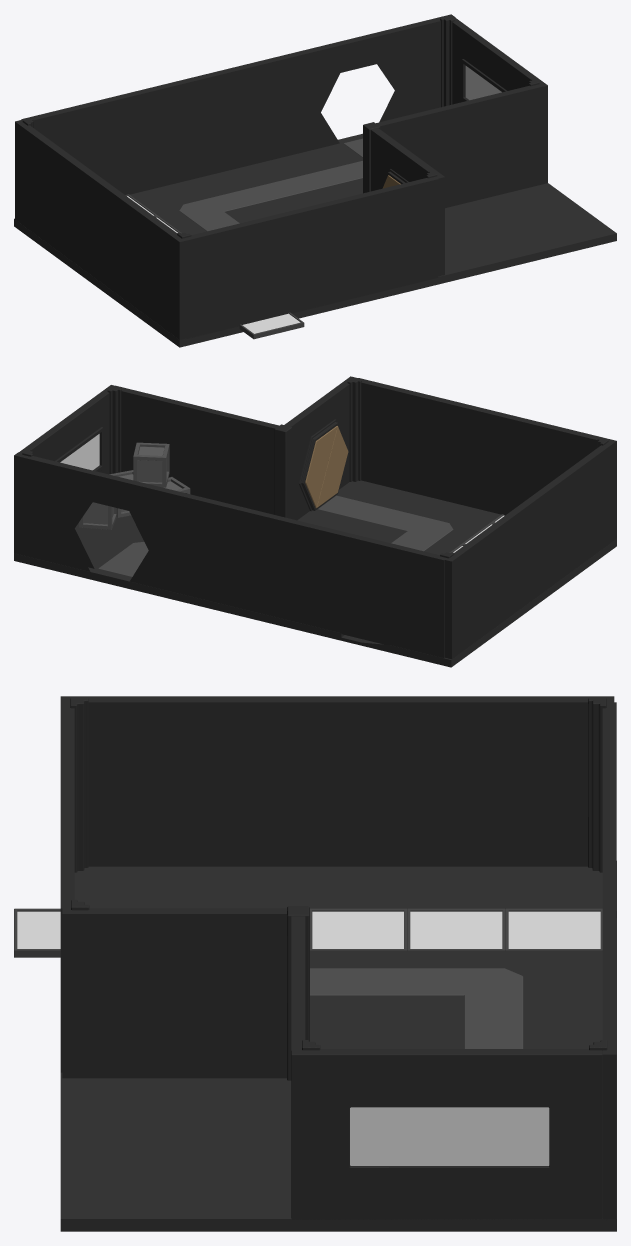
Rendered from level01.fbx.
The picture shows the model from 3 angles, top to bottom: view 1: azimuth 30°, elevation 25°; view 2: azimuth 150°, elevation 25°; view 3: azimuth 270°, elevation 25°; orthographic projection. The views are drawn at different scales.
Visible parts, largest first — view 1: Cube.005, Cube.006, Cube, Cube.007, Cube.001, Cube.017, Cube.004, Cube.002, Cube.010, Cube.012, Cube.022, Cube.003; view 2: Cube.005, Cube.006, Cube.007, Cube, Cube.001, Cube.017, Cube.002, Cube.004, Cylinder.001, Cube.003, Cube.021, Cube.014 (+5 smaller); view 3: Cube.007, Cube, Cube.004, Cube.002, Cube.010, Cube.022, Cube.017, Cube.005, Cube.006, Cube.016, Cube.015, Cube.001 (+1 smaller).
Part boxes in pixels (x1,y1,x2,y2): Cube.005: (21,14,455,194); Cube.006: (184,177,438,338); Cube: (14,133,616,347); Cube.007: (15,120,186,339); Cube.001: (376,84,543,208); Cube.017: (179,138,362,231); Cube.004: (452,17,547,184); Cube.002: (371,128,444,276); Cube.010: (125,194,304,339); Cube.012: (440,16,454,107); Cube.022: (465,66,501,100); Cube.003: (363,122,380,193); Cube.005: (14,452,446,657); Cube.006: (357,378,609,515); Cube.007: (444,439,616,659); Cube: (14,480,616,667); Cube.001: (114,386,278,514); Cube.017: (98,495,453,576); Cube.002: (284,376,357,520); Cube.004: (19,385,116,474); Cylinder.001: (305,426,348,508); Cube.003: (274,424,292,518); Cube.021: (133,442,169,487); Cube.014: (347,378,361,481); Cube.007: (60,696,614,866); Cube: (60,861,616,1231); Cube.004: (291,1049,602,1219); Cube.002: (62,908,286,1078); Cube.010: (14,908,602,957); Cube.022: (350,1107,549,1165); Cube.017: (310,968,523,1048); Cube.005: (602,702,616,1220); Cube.006: (60,702,74,1072); Cube.016: (588,698,606,872); Cube.015: (70,698,88,872); Cube.001: (291,916,305,1050).
Bounding box in the file's own units: 12107 × 2839 × 8610.
